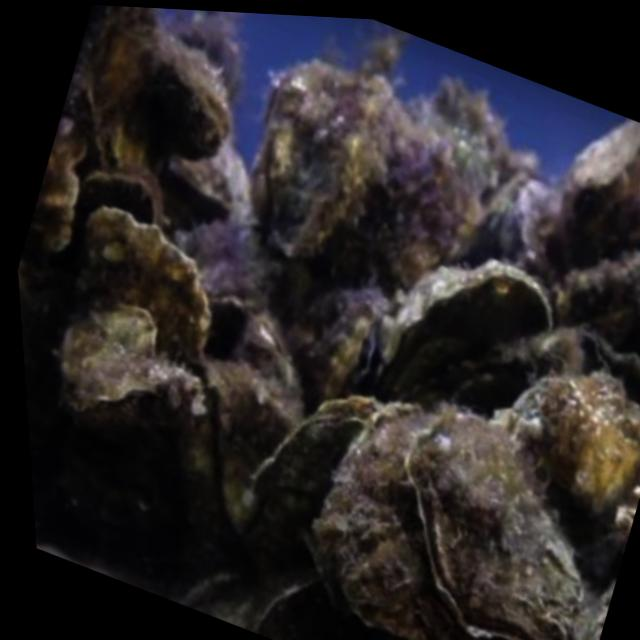Oyster-Closed: (408, 415, 580, 640), (246, 61, 367, 261), (245, 390, 374, 574), (148, 34, 234, 158), (309, 311, 382, 406)
Oyster-Indeterminate: (334, 399, 480, 640), (357, 257, 554, 410), (74, 207, 209, 372), (332, 136, 461, 294), (507, 379, 640, 515), (204, 355, 300, 531), (55, 305, 161, 408), (48, 174, 156, 271), (20, 118, 78, 268), (571, 127, 640, 224), (605, 195, 640, 265)
Oyster-Open: (509, 328, 640, 423)
